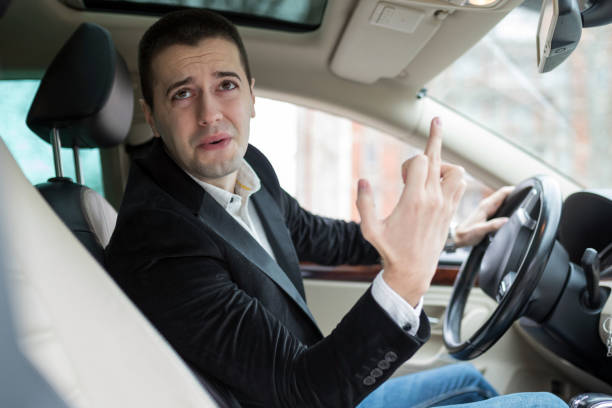insulting_gesture: (354, 115, 466, 287)
